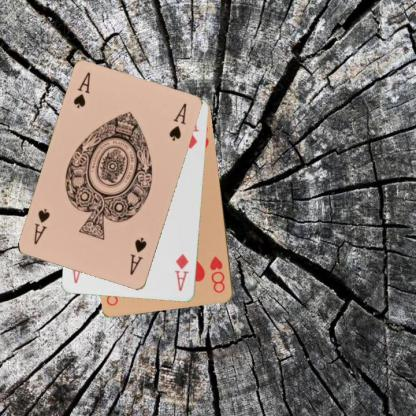8h: (208, 254, 226, 294)
Ad: (172, 251, 190, 293)
As: (127, 235, 148, 277), (70, 70, 92, 110)
